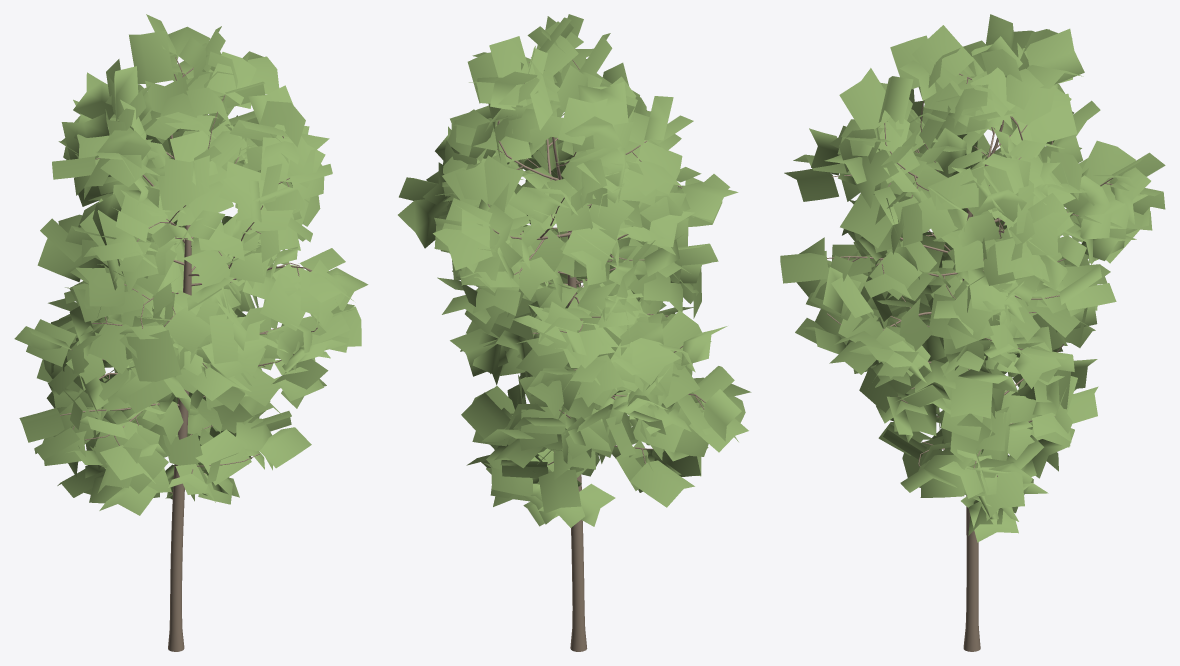
Rendered from Pine_12_young_lod0.glb.
The picture shows the model from 3 angles, left to right: view 1: azimuth 30°, elevation 25°; view 2: azimuth 150°, elevation 25°; view 3: azimuth 270°, elevation 25°; orthographic projection. The views are drawn at different scales.
Visible parts, largest first — view 1: Pine_12_young_lod0; view 2: Pine_12_young_lod0; view 3: Pine_12_young_lod0.
Boxes of the visible parts, x1,y1,x2,y2 form: Pine_12_young_lod0: (14, 14, 368, 651); Pine_12_young_lod0: (398, 14, 751, 651); Pine_12_young_lod0: (780, 14, 1165, 651).
Size of the model in its own units: 5.4 by 10.17 by 5.6.
